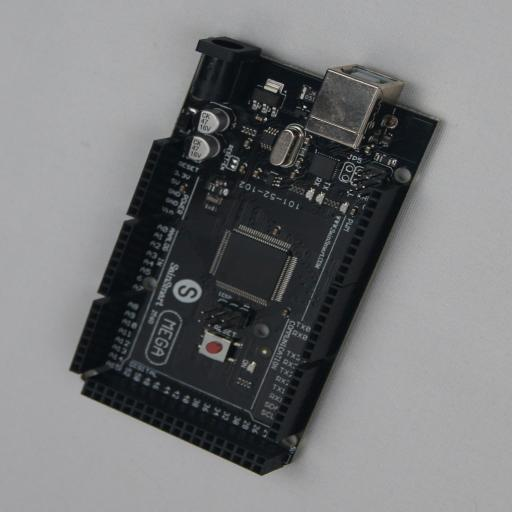Arduino Mega 2560 -Black-: (69, 36, 441, 476)
